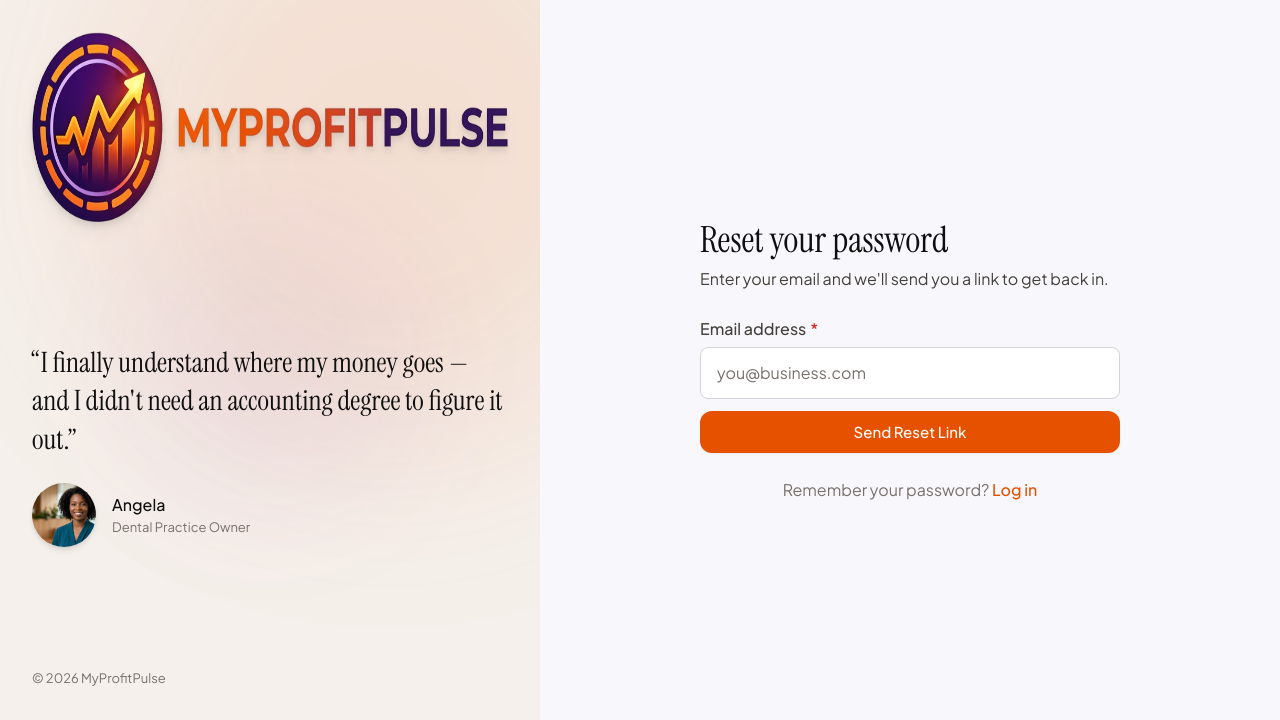
Test case: ForgotPasswordPage › shows 'Check your email' state after successful send
This screenshot has width=1280, height=720.
Type "test@business.com" into the field labelled "Email address*". click: (910, 373)
box: [700,347,1120,399]
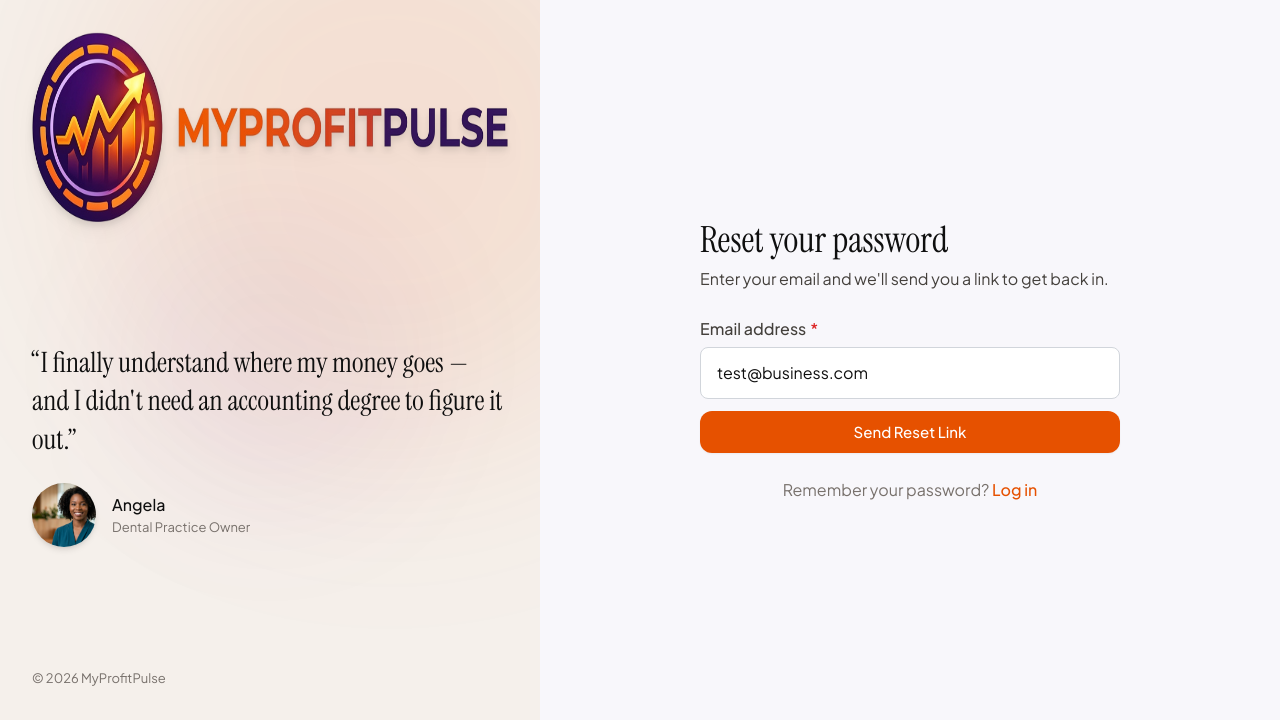
Click the button "Send Reset Link". click: (910, 432)
box: [700,411,1120,453]
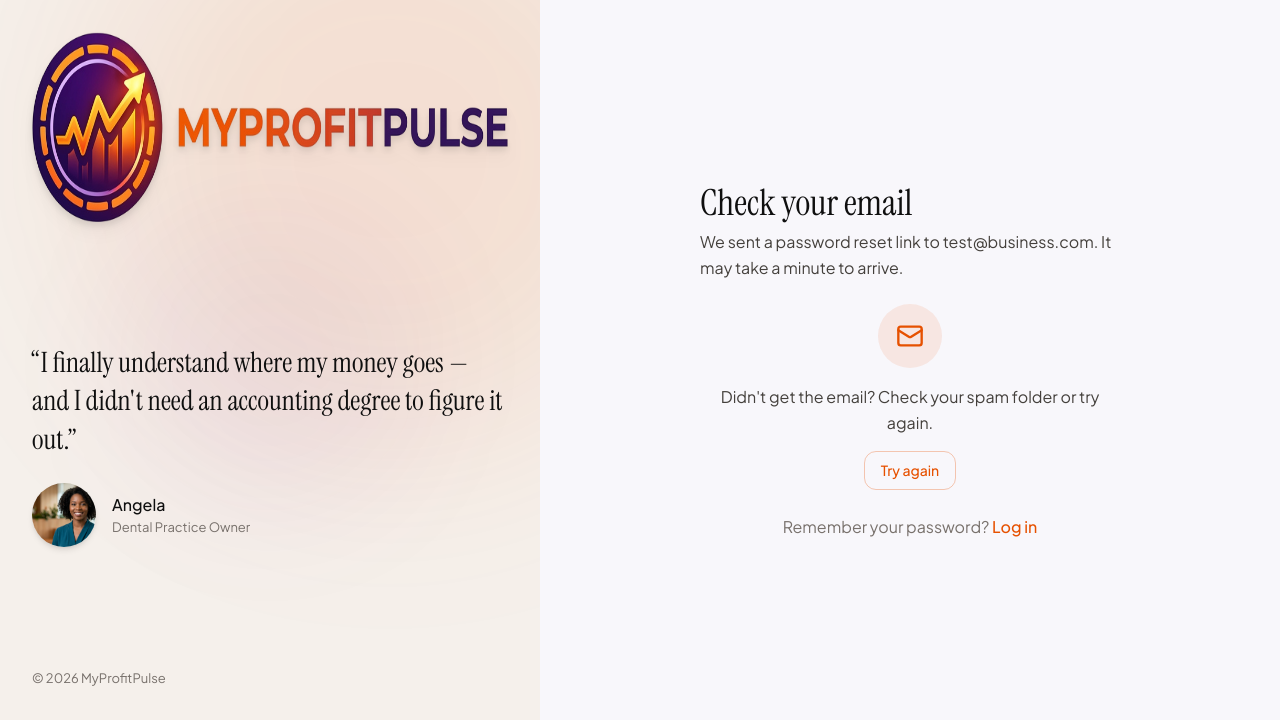
Now the heading "Check your email" is shown, box [700,179,912,226]
Now the text "test@business.com" is shown, box [700,231,1111,278]
